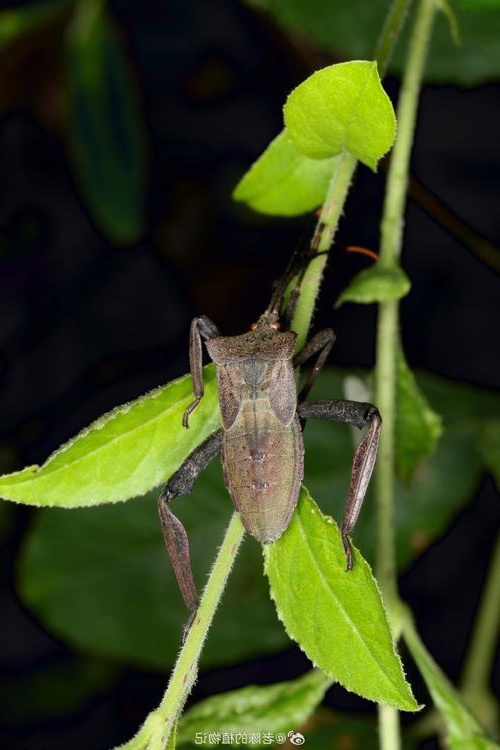Stink_Bug: (205, 237, 341, 524)
